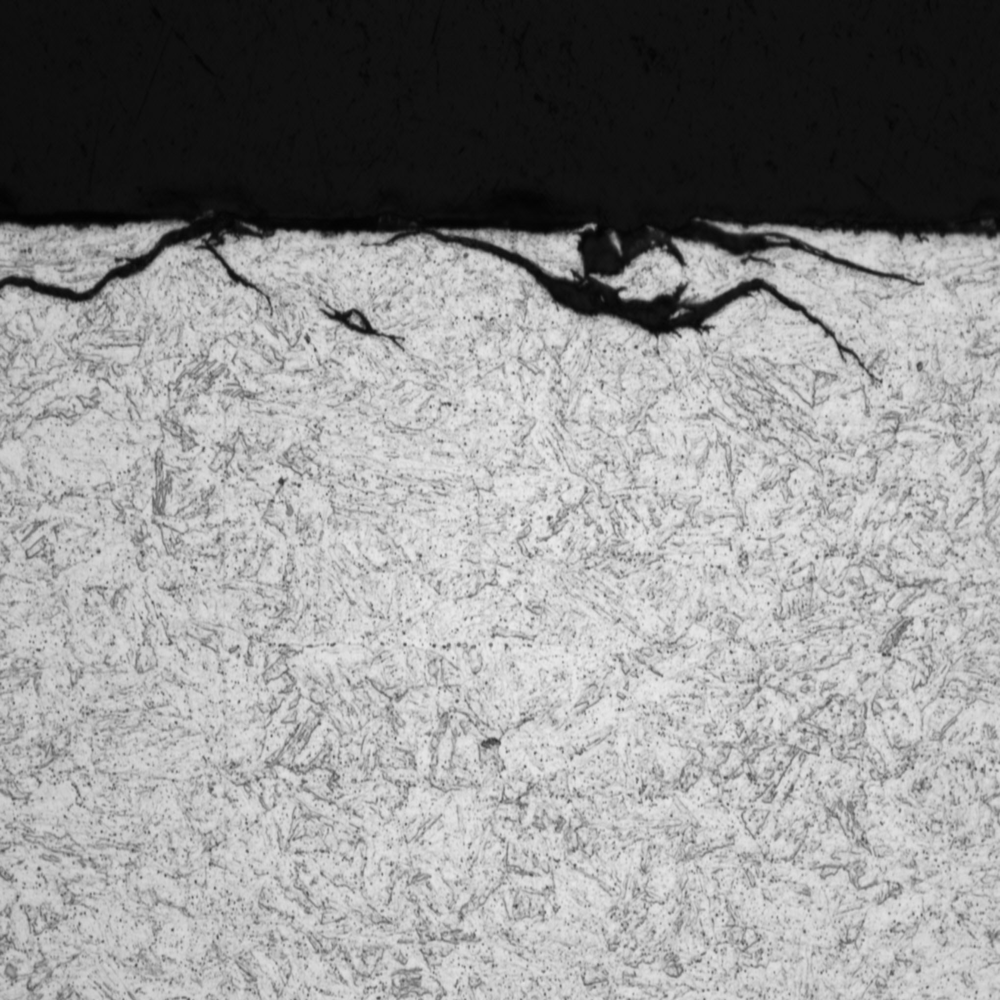crack: (362, 203, 938, 400), (1, 220, 288, 322)
